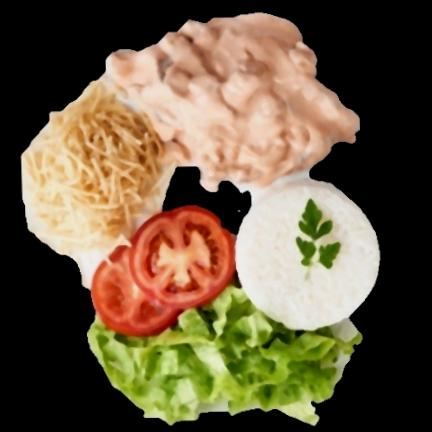chicken: (107, 14, 359, 191)
potato: (23, 79, 168, 257)
rice: (236, 179, 380, 330)
salad: (89, 284, 362, 425)
tomato: (92, 206, 235, 336)
